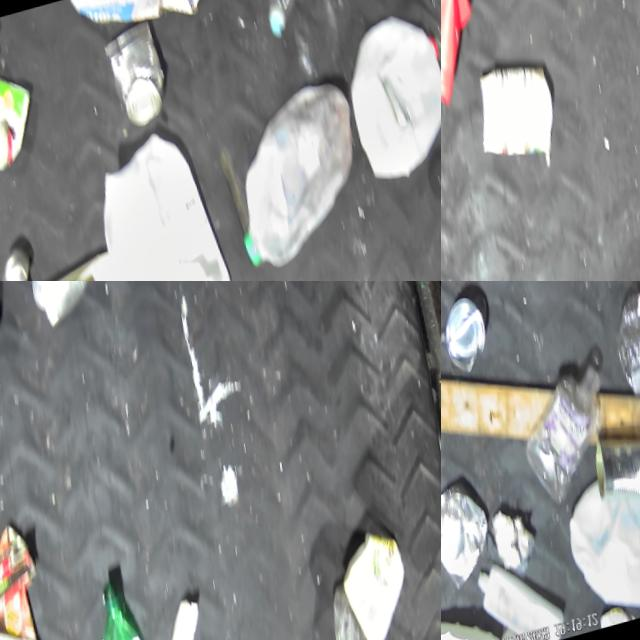can: (98, 18, 176, 142), (441, 480, 504, 605), (0, 64, 45, 180), (441, 294, 498, 383), (592, 429, 640, 525), (26, 281, 104, 338)
milk_jug: (219, 79, 376, 281), (83, 119, 258, 281), (336, 13, 441, 202), (563, 460, 640, 640)
non_white_jug: (441, 0, 494, 135)
plastic_bottle: (511, 360, 628, 524), (319, 582, 412, 640), (607, 281, 640, 418)
